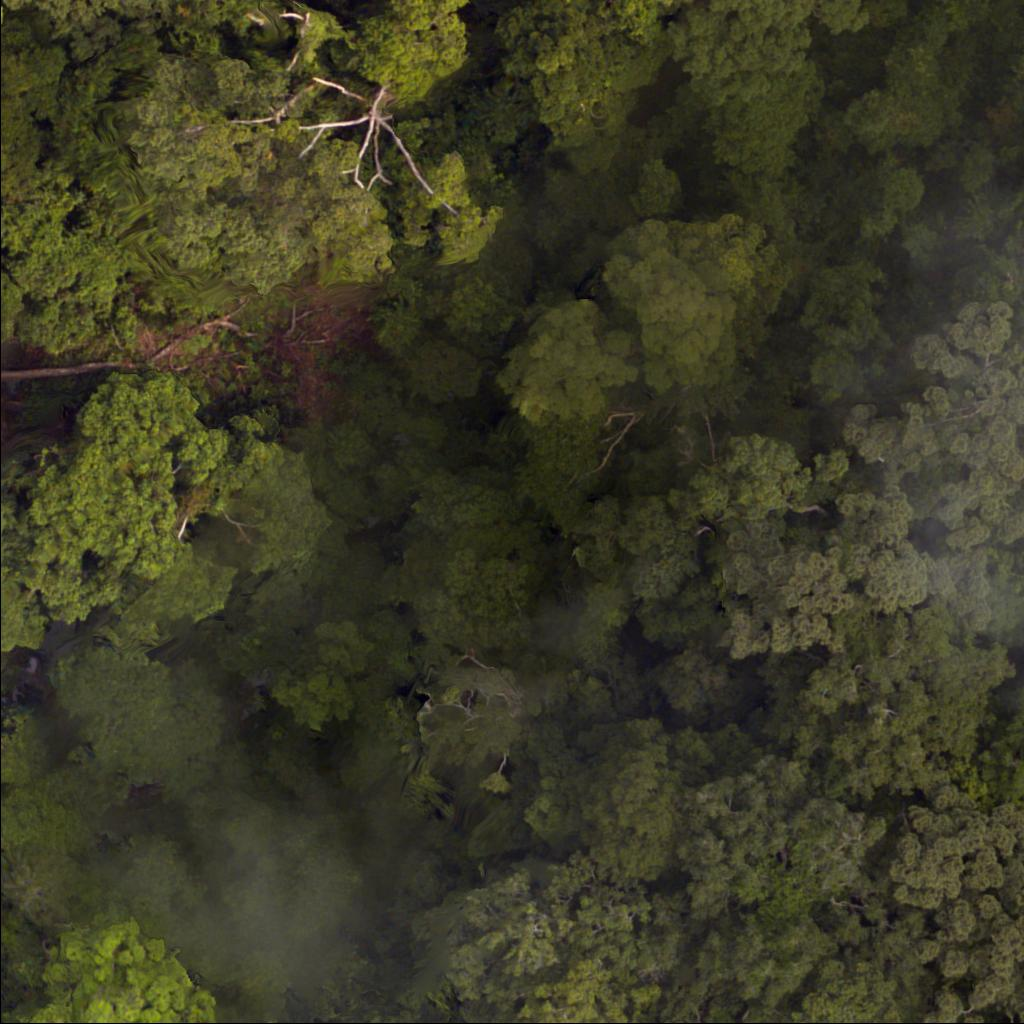crown: (140, 33, 490, 294), (18, 403, 238, 640), (841, 296, 1023, 554), (765, 606, 1008, 797), (881, 791, 1023, 1023), (47, 643, 227, 815), (19, 891, 248, 1023), (505, 0, 672, 150), (422, 870, 576, 1023), (674, 0, 881, 82), (364, 0, 475, 117), (578, 884, 689, 983), (512, 959, 655, 1023), (671, 979, 767, 1023), (799, 986, 898, 1023), (0, 458, 18, 562), (657, 0, 717, 12)
